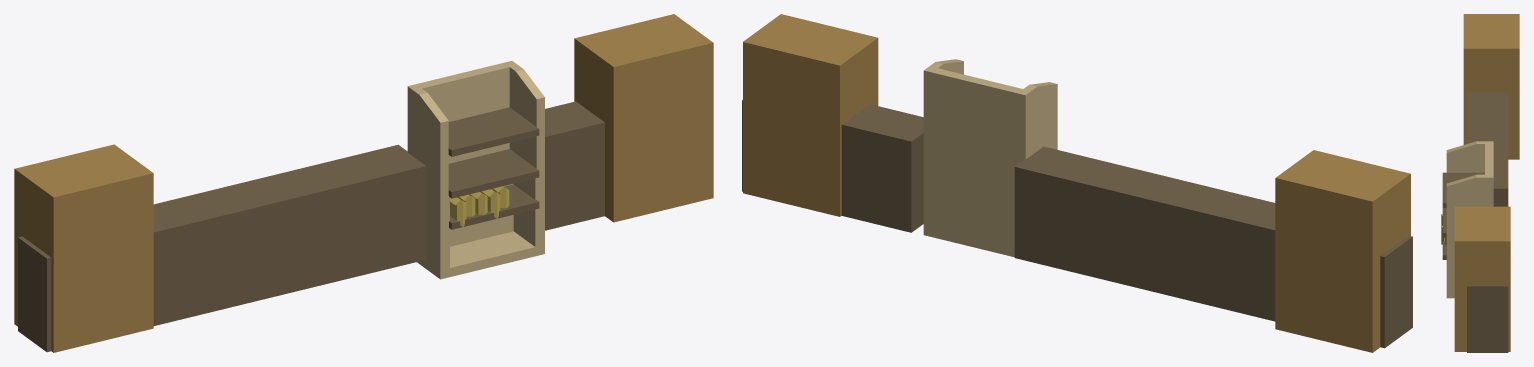
The model's file is rak2.fbx.
3 renders of one model, left to right at view 1: azimuth 30°, elevation 25°; view 2: azimuth 150°, elevation 25°; view 3: azimuth 270°, elevation 25°, orthographic. The views are drawn at different scales.
Parts seen in each view (by area): view 1: Cube.033; view 2: Cube.033; view 3: Cube.033.
Part boxes in pixels (<box>): Cube.033: <box>14,14,713,352</box>; Cube.033: <box>742,14,1412,352</box>; Cube.033: <box>1441,14,1519,352</box>.
Bounding box in the file's own units: 109 × 186 × 760.
